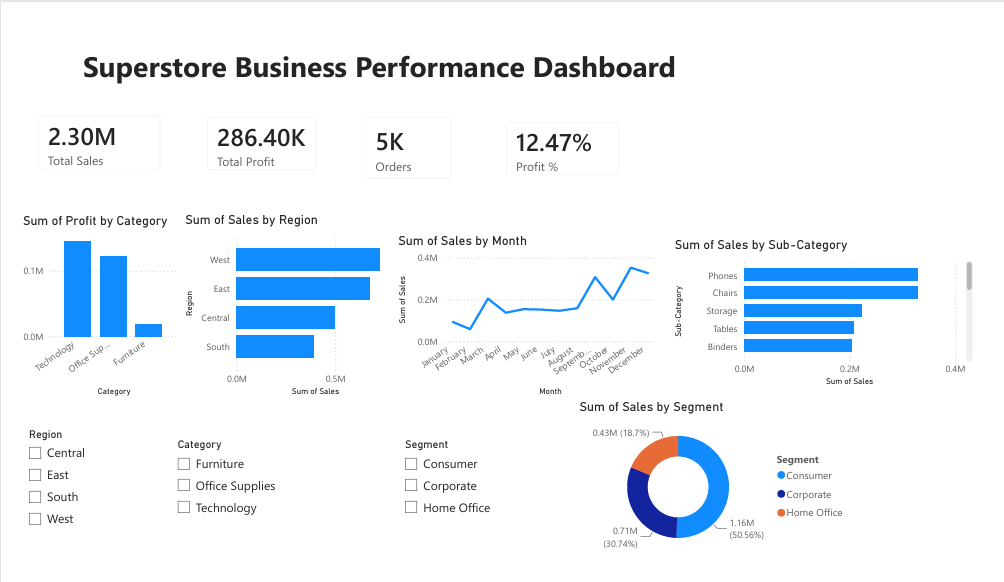

The page's visual inventory and layout, read from the dashboard file:
{"tool":"powerbi","page":{"name":"Page 1","canvas":[1280,720],"ordinal":0},"visuals":[{"type":"cardVisual","fields":{"Data":["Sum(Sample - Superstore.Sales)"]},"box":[8.4,109.2,196.5,105.8],"z":0},{"type":"clusteredColumnChart","fields":{"Y":["Sum(Sample - Superstore.Profit)"],"Category":["Sample - Superstore.Category"]},"box":[0,255.3,215,245.2],"z":1000},{"type":"clusteredBarChart","fields":{"Category":["Sample - Superstore.Region"],"Y":["Sum(Sample - Superstore.Sales)"]},"box":[215,253.6,300.7,246.9],"z":2000},{"type":"lineChart","fields":{"Category":["Sample - Superstore.Order Date.Variation.Date Hierarchy.Year","Sample - Superstore.Order Date.Variation.Date Hierarchy.Quarter","Sample - Superstore.Order Date.Variation.Date Hierarchy.Month","Sample - Superstore.Order Date.Variation.Date Hierarchy.Day"],"Y":["Sum(Sample - Superstore.Sales)"]},"box":[497.2,280.5,351.1,220.1],"z":3000},{"type":"donutChart","fields":{"Category":["Sample - Superstore.Segment"],"Y":["Sum(Sample - Superstore.Sales)"]},"box":[737.4,500.6,367.9,213.3],"z":4000},{"type":"clusteredBarChart","fields":{"Category":["Sample - Superstore.Sub-Category"],"Y":["Sum(Sample - Superstore.Sales)"]},"box":[863.4,287.2,403.1,201.6],"z":5000},{"type":"cardVisual","fields":{"Data":["Sum(Sample - Superstore.Profit)"]},"box":[231.8,110.9,178.1,104.1],"z":6000},{"type":"cardVisual","fields":{"Data":["Sample - Superstore.Orders"]},"box":[441.8,110.9,147.8,115.9],"z":7000},{"type":"cardVisual","fields":{"Data":["Sample - Superstore.Profit %"]},"box":[628.2,117.6,183.1,104.1],"z":8000},{"type":"slicer","fields":{"Values":["Sample - Superstore.Region"]},"box":[0,533.5,197,180],"z":8001},{"type":"slicer","fields":{"Values":["Sample - Superstore.Category"]},"box":[196.5,547.6,300.7,166.3],"z":8002},{"type":"slicer","fields":{"Values":["Sample - Superstore.Segment"]},"box":[498,548,259,166],"z":8003},{"type":"textbox","box":[31.9,30.2,890.3,79],"z":8004}]}

Visuals, with their boxes in screenshot pixels (x1, y1, x2, y2), scaled from the page's 1280x720 canvas onto the 1004x582 screenshot:
cardVisual - Sum(Sample - Superstore.Sales): select_region(7, 88, 161, 174)
clusteredColumnChart - Sum(Sample - Superstore.Profit) x Sample - Superstore.Category: select_region(0, 206, 169, 405)
clusteredBarChart - Sample - Superstore.Region x Sum(Sample - Superstore.Sales): select_region(169, 205, 405, 405)
lineChart - Sample - Superstore.Order Date.Variation.Date Hierarchy.Year x Sample - Superstore.Order Date.Variation.Date Hierarchy.Quarter: select_region(390, 227, 665, 405)
donutChart - Sample - Superstore.Segment x Sum(Sample - Superstore.Sales): select_region(578, 405, 867, 577)
clusteredBarChart - Sample - Superstore.Sub-Category x Sum(Sample - Superstore.Sales): select_region(677, 232, 993, 395)
cardVisual - Sum(Sample - Superstore.Profit): select_region(182, 90, 322, 174)
cardVisual - Sample - Superstore.Orders: select_region(347, 90, 462, 183)
cardVisual - Sample - Superstore.Profit %: select_region(493, 95, 636, 179)
slicer - Sample - Superstore.Region: select_region(0, 431, 155, 577)
slicer - Sample - Superstore.Category: select_region(154, 443, 390, 577)
slicer - Sample - Superstore.Segment: select_region(391, 443, 594, 577)
textbox: select_region(25, 24, 723, 88)
